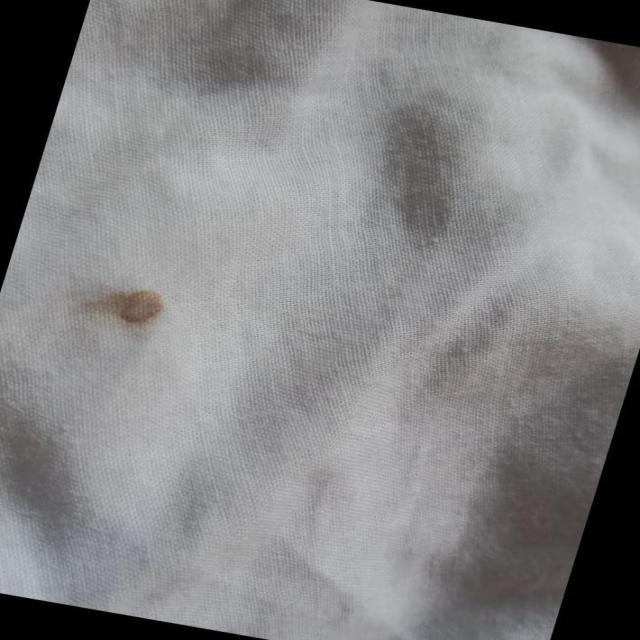stain: (340, 86, 506, 252), (53, 270, 189, 338)
